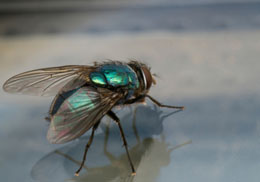green bottles fly: (1, 54, 191, 177)
